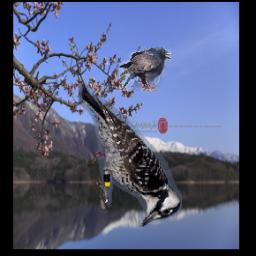Crow: (120, 48, 172, 92)
Woodpecker: (79, 84, 183, 227)
